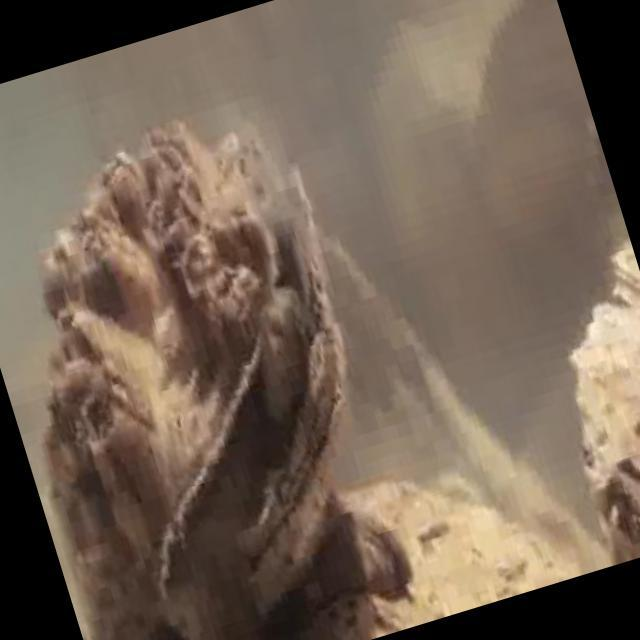Oyster- Indeterminate: (275, 432, 580, 640), (251, 497, 415, 639), (571, 304, 640, 475)
Oyster-Open: (0, 104, 386, 640), (601, 473, 640, 561)
